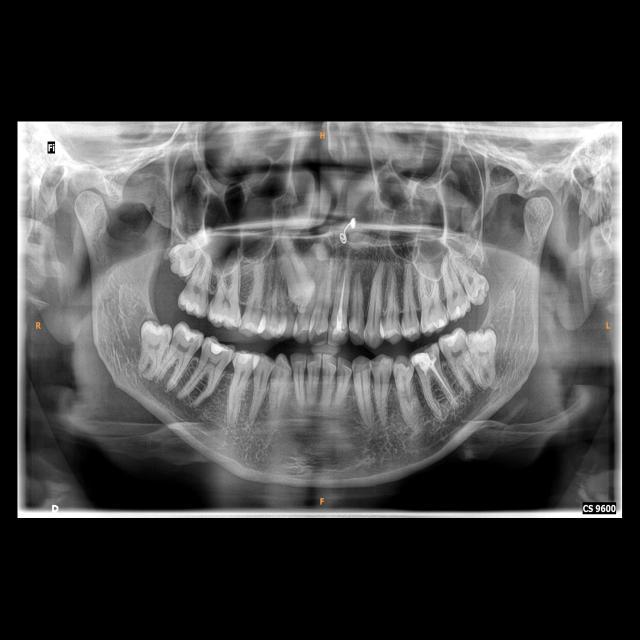dolgu: (207, 338, 229, 361), (415, 351, 437, 370), (330, 323, 348, 344)
kanal-tedavisi: (434, 369, 457, 404), (334, 273, 346, 323)
